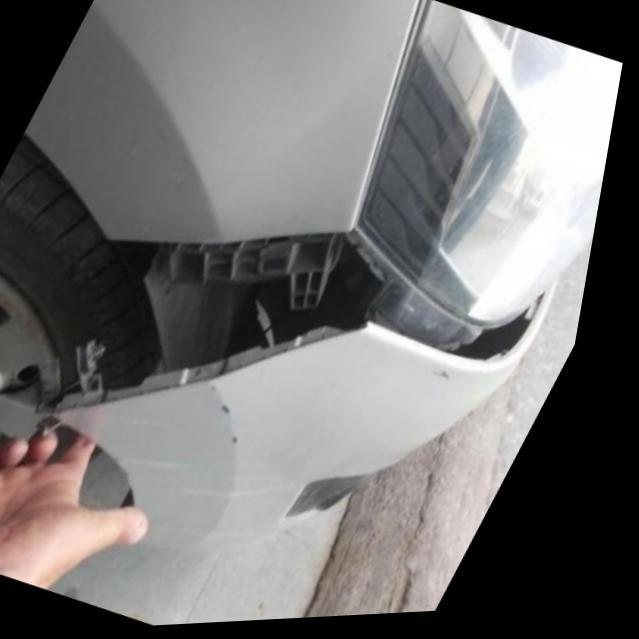dislocated part: (62, 234, 556, 417)
scratch: (181, 481, 309, 510), (168, 520, 287, 545), (217, 381, 254, 457), (139, 450, 217, 480), (122, 414, 188, 436), (437, 370, 478, 396)
